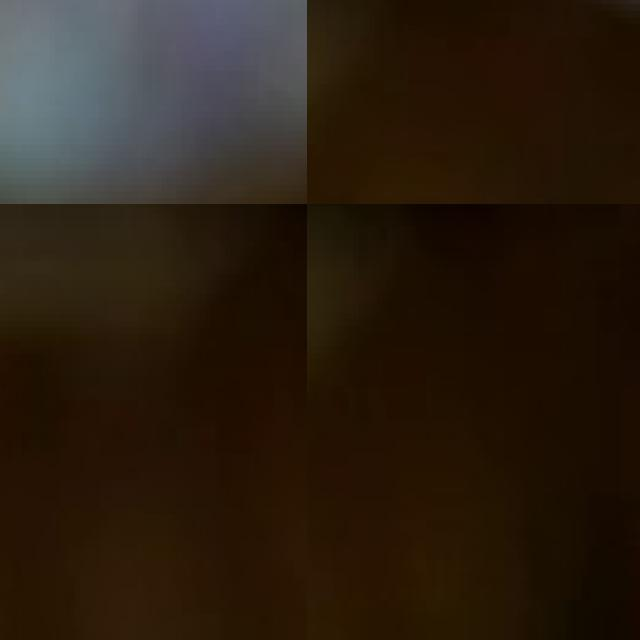fish: (0, 0, 307, 204), (393, 51, 640, 204)
